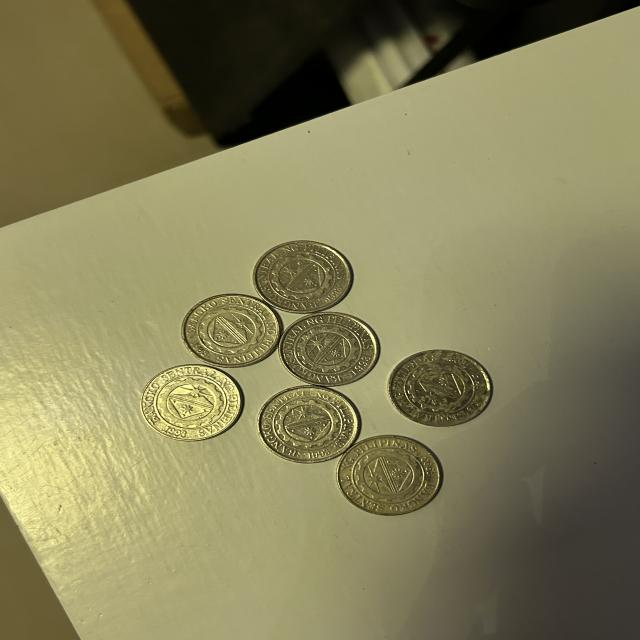1_Old_Back: (349, 448, 429, 509), (146, 375, 233, 429), (402, 356, 478, 414), (269, 395, 345, 452), (293, 325, 365, 379), (266, 251, 338, 303)
